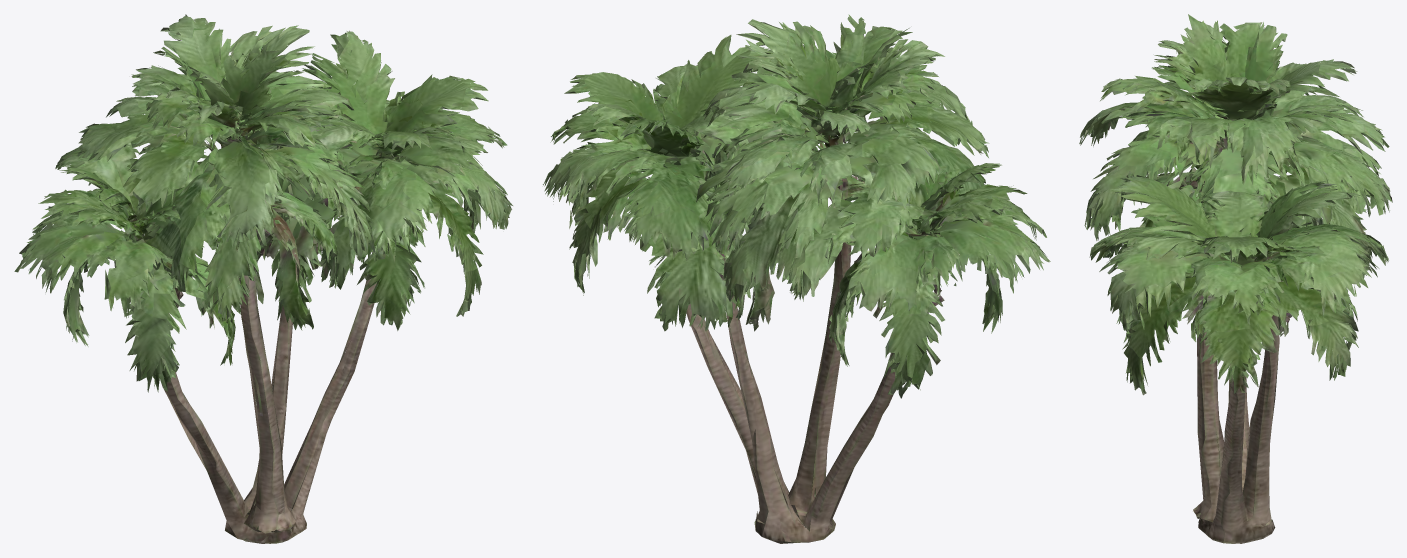
The model's file is acai.glb.
The picture shows the model from 3 angles, left to right: view 1: azimuth 30°, elevation 25°; view 2: azimuth 150°, elevation 25°; view 3: azimuth 270°, elevation 25°; orthographic projection. The views are drawn at different scales.
Parts seen in each view (by area): view 1: lod0; view 2: lod0; view 3: lod0.
Part boxes in pixels (x1,y1,x2,y2): lod0: [14, 14, 512, 543]; lod0: [543, 14, 1050, 543]; lod0: [1079, 14, 1392, 543].
Size of what is drawn, in the model's own units: 4.48 by 4.55 by 2.74.
Materials: 1 (1 with a texture image).
